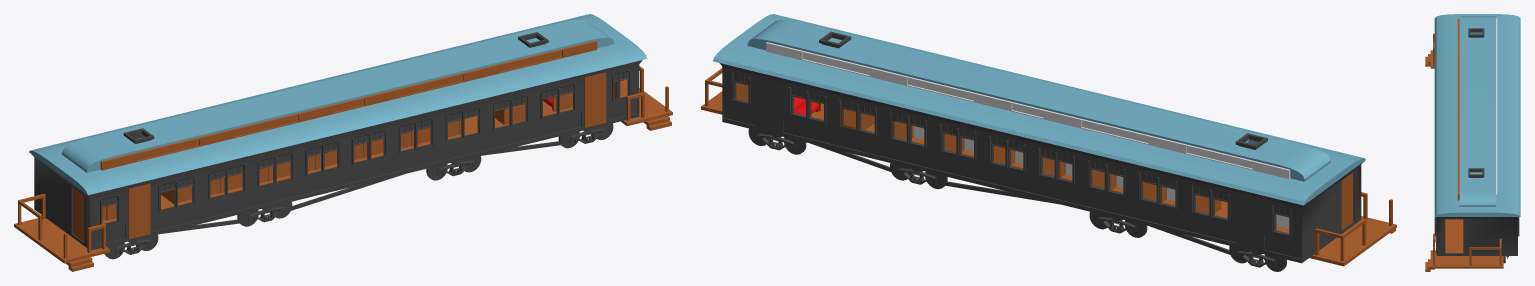
The model's file is Scraps TrainCart 01.FBX.
3 renders of one model, left to right at view 1: azimuth 30°, elevation 25°; view 2: azimuth 150°, elevation 25°; view 3: azimuth 270°, elevation 25°, orthographic. The views are drawn at different scales.
Parts seen in each view (by area): view 1: Train 01 Roof, Wall, Roof Pnl 01, Train 01 Exit Platform, Train 01 Wheels, Train 01, Train 01 Door (×3), Train 01 Roof Vents, Train 01 Interior; view 2: Train 01, Train 01 Roof, Roof Pnl 02, Train 01 Wheels, Train 01 Exit Platform, Train 01 Interior (×3), Train 01 Roof Vents, Train 01 Door; view 3: Train 01 Roof, Train 01, Train 01 Exit Platform, Roof Pnl 01, Roof Pnl 02, Train 01 Roof Vents, Wall.
Part boxes in pixels (x1,y1,x2,y2): Train 01 Roof: [29, 14, 647, 195]; Wall: [88, 60, 642, 250]; Roof Pnl 01: [100, 40, 597, 170]; Train 01 Exit Platform: [14, 66, 672, 271]; Train 01 Wheels: [104, 123, 613, 259]; Train 01: [31, 81, 620, 247]; Train 01 Door (×3): [73, 72, 606, 241]; Train 01 Roof Vents: [123, 32, 548, 143]; Train 01 Interior: [495, 92, 572, 124]; Train 01: [719, 63, 1363, 263]; Train 01 Roof: [713, 14, 1365, 205]; Roof Pnl 02: [766, 42, 1290, 178]; Train 01 Wheels: [748, 128, 1286, 271]; Train 01 Exit Platform: [701, 68, 1396, 266]; Train 01 Interior (×3): [804, 99, 1175, 200]; Train 01 Roof Vents: [819, 31, 1267, 149]; Train 01 Door: [1341, 172, 1353, 229]; Train 01 Roof: [1434, 14, 1520, 216]; Train 01: [1436, 217, 1519, 255]; Train 01 Exit Platform: [1425, 33, 1503, 271]; Roof Pnl 01: [1457, 18, 1459, 200]; Roof Pnl 02: [1496, 18, 1497, 200]; Train 01 Roof Vents: [1468, 28, 1484, 177]; Wall: [1434, 217, 1436, 252].
Size of the model in its own units: 520 by 81.25 by 96.9.
